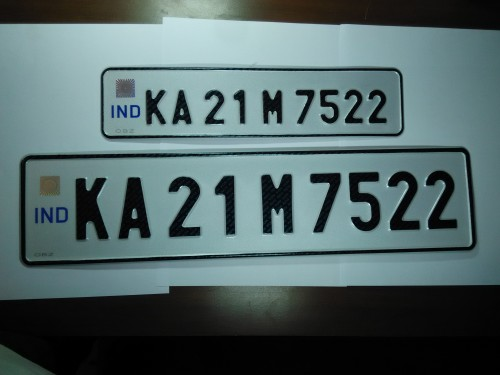numberplate: (23, 151, 478, 259), (99, 65, 406, 137)
